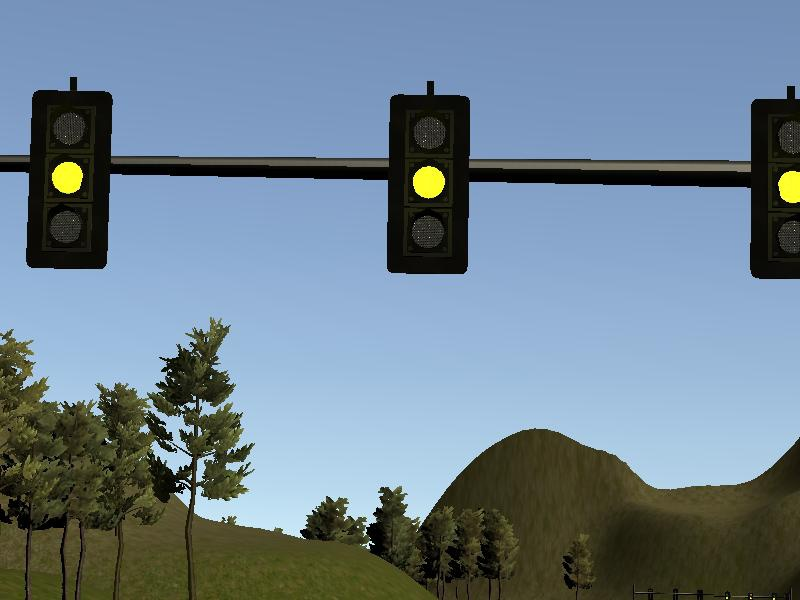yellow: (389, 96, 470, 273), (29, 91, 109, 265), (752, 101, 800, 276)
